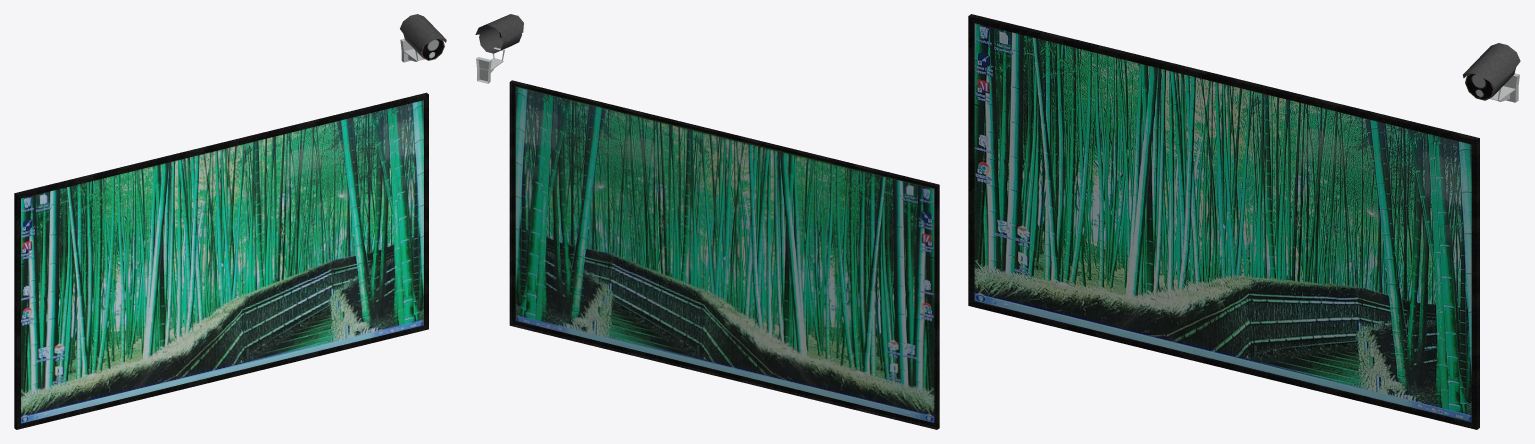
Rendered from jiankong.FBX.
3 renders of one model, left to right at view 1: azimuth 30°, elevation 25°; view 2: azimuth 150°, elevation 25°; view 3: azimuth 330°, elevation 25°, orthographic. The views are drawn at different scales.
Visible parts, largest first — view 1: YF_Model_jiankong; view 2: YF_Model_jiankong; view 3: YF_Model_jiankong.
Boxes of the visible parts, <box> form: YF_Model_jiankong: <box>14,14,446,429</box>; YF_Model_jiankong: <box>475,14,939,429</box>; YF_Model_jiankong: <box>968,14,1520,429</box>.
Size of the model in its own units: 150 by 100 by 18.56.
Materials: 1 (1 with a texture image).
